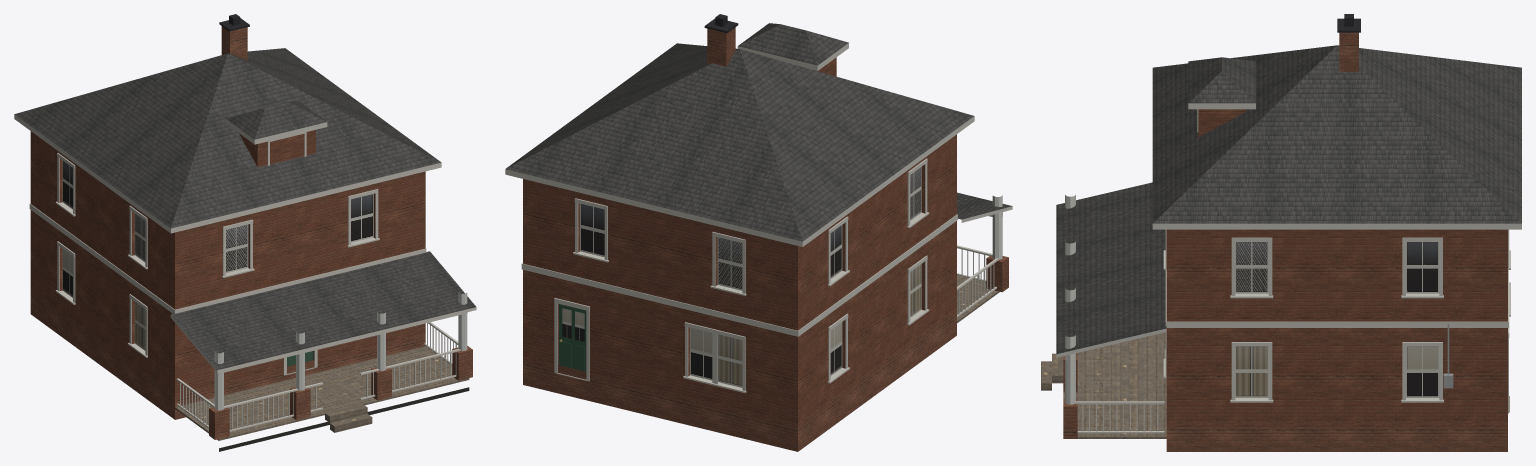
Rendered from town_house_b 2.gltf.
3 renders of one model, left to right at view 1: azimuth 30°, elevation 25°; view 2: azimuth 150°, elevation 25°; view 3: azimuth 270°, elevation 25°, orthographic. The views are drawn at different scales.
Visible parts, largest first — view 1: TownHouseB_Roof, TownHouseB_Walls, TownHouseB_Deck, TownHouseB_Foundation, TownHouseB_Trim, TownHouseB_Fascia, TownHouseB_Window, TownHouseB_Railing, TownHouseB_PostPiers, TownHouseB_PostTaper, TownHouseB_Dormer, TownHouseB_Steps (+2 smaller); view 2: TownHouseB_Walls, TownHouseB_Roof, TownHouseB_Foundation, TownHouseB_Trim, TownHouseB_Window, TownHouseB_Fascia, TownHouseB_ClosedDoor, TownHouseB_Railing, TownHouseB_Chimney, TownHouseB_Deck, TownHouseB_PostPiers, TownHouseB_PostTaper; view 3: TownHouseB_Roof, TownHouseB_Walls, TownHouseB_Foundation, TownHouseB_Deck, TownHouseB_Window, TownHouseB_Trim, TownHouseB_Fascia, TownHouseB_Railing, TownHouseB_PostTaper, TownHouseB_Chimney, TownHouseB_Dormer, TownHouseB_PostPiers (+1 smaller).
Part boxes in pixels (bbox=[...]): TownHouseB_Roof: bbox=[14, 48, 475, 369]; TownHouseB_Walls: bbox=[30, 131, 425, 393]; TownHouseB_Deck: bbox=[175, 346, 469, 440]; TownHouseB_Foundation: bbox=[30, 288, 425, 419]; TownHouseB_Trim: bbox=[29, 132, 467, 375]; TownHouseB_Fascia: bbox=[14, 114, 476, 373]; TownHouseB_Window: bbox=[62, 161, 373, 350]; TownHouseB_Railing: bbox=[176, 322, 460, 431]; TownHouseB_PostPiers: bbox=[209, 346, 472, 439]; TownHouseB_PostTaper: bbox=[214, 292, 467, 410]; TownHouseB_Dormer: bbox=[239, 130, 315, 167]; TownHouseB_Steps: bbox=[325, 404, 372, 432]; TownHouseB_Walls: bbox=[523, 134, 956, 423]; TownHouseB_Roof: bbox=[505, 23, 1012, 241]; TownHouseB_Foundation: bbox=[523, 307, 956, 451]; TownHouseB_Trim: bbox=[521, 158, 1002, 393]; TownHouseB_Window: bbox=[562, 167, 921, 387]; TownHouseB_Fascia: bbox=[505, 43, 1012, 246]; TownHouseB_ClosedDoor: bbox=[559, 304, 586, 371]; TownHouseB_Railing: bbox=[957, 245, 998, 317]; TownHouseB_Chimney: bbox=[707, 27, 735, 66]; TownHouseB_Deck: bbox=[957, 275, 999, 323]; TownHouseB_PostPiers: bbox=[986, 256, 1008, 292]; TownHouseB_PostTaper: bbox=[992, 195, 1002, 259]; TownHouseB_Roof: bbox=[1056, 45, 1521, 354]; TownHouseB_Walls: bbox=[1166, 229, 1507, 421]; TownHouseB_Foundation: bbox=[1166, 421, 1507, 451]; TownHouseB_Deck: bbox=[1063, 332, 1166, 438]; TownHouseB_Window: bbox=[1235, 242, 1439, 397]; TownHouseB_Trim: bbox=[1065, 109, 1510, 413]; TownHouseB_Fascia: bbox=[1056, 103, 1521, 357]; TownHouseB_Railing: bbox=[1074, 401, 1164, 433]; TownHouseB_PostTaper: bbox=[1065, 195, 1075, 404]; TownHouseB_Chimney: bbox=[1339, 32, 1358, 71]; TownHouseB_Dormer: bbox=[1198, 109, 1245, 137]; TownHouseB_PostPiers: bbox=[1063, 353, 1077, 438].
Size of what is drawn, in the model's own units: 9.3 by 10.29 by 12.11.
Materials: 2 (2 with a texture image).
